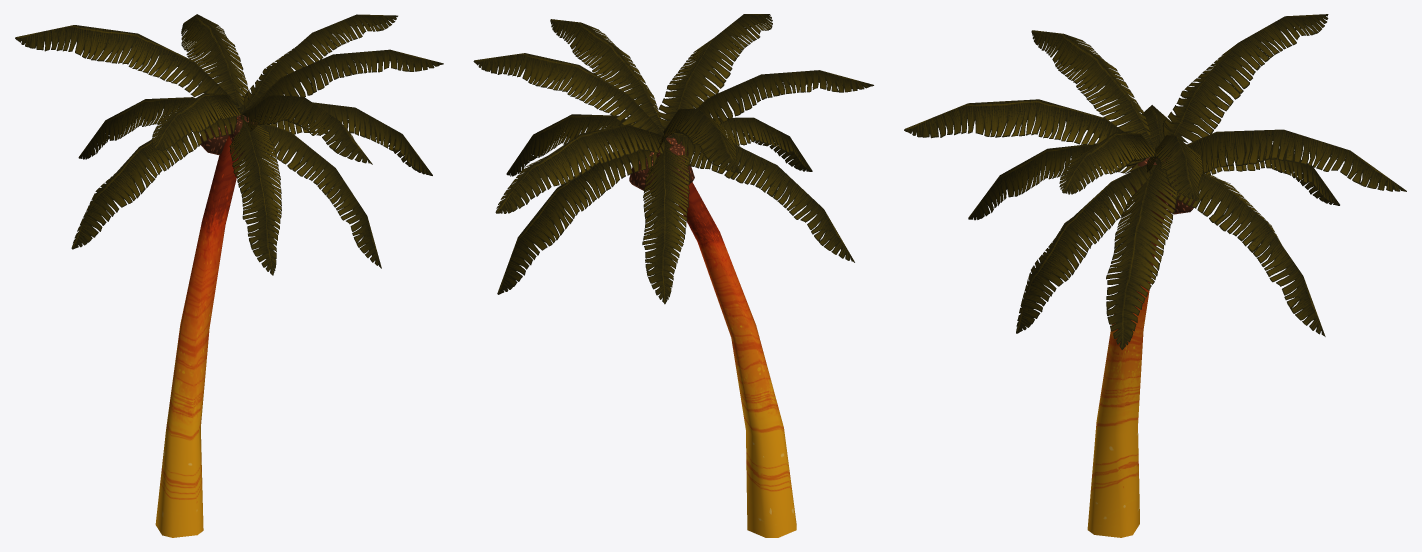
The model's file is Elvis_Tree_01.FBX.
The picture shows the model from 3 angles, left to right: view 1: azimuth 30°, elevation 25°; view 2: azimuth 150°, elevation 25°; view 3: azimuth 270°, elevation 25°; orthographic projection. The views are drawn at different scales.
Parts seen in each view (by area): view 1: Tree_006; view 2: Tree_006; view 3: Tree_006.
Boxes of the visible parts, x1=… form: Tree_006: x1=15, y1=14, x2=443, y2=537; Tree_006: x1=473, y1=14, x2=873, y2=537; Tree_006: x1=904, y1=14, x2=1406, y2=537.
Size of the model in its own units: 8.23 by 10.08 by 9.29.
